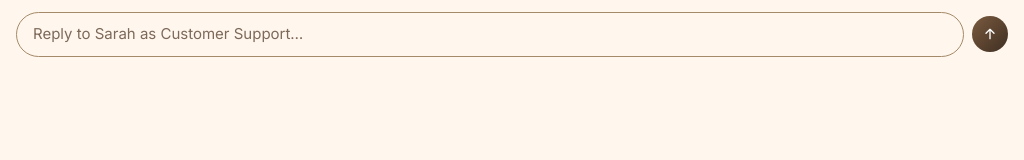
Test: ReplyField › sends via the send button and clears the field
Type "On it" into the field with placeholder "Reply to Sarah as Customer Support…".
click(490, 34); type("On it")  # box [16, 12, 964, 56]
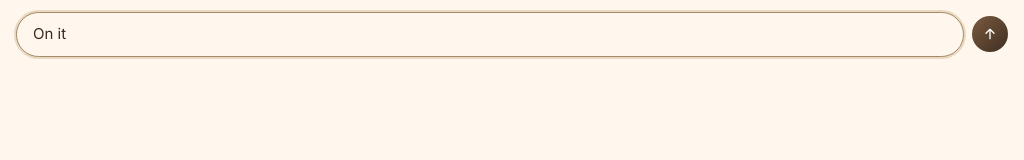
Click the button named "Send reply".
click(990, 34)  # box [972, 16, 1008, 52]
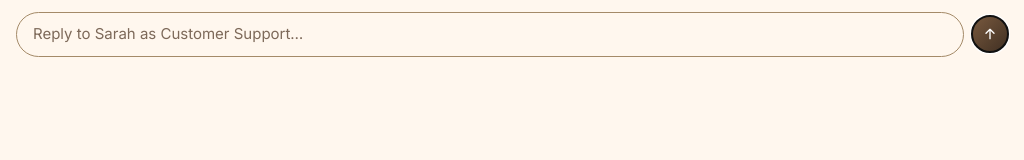
Now the field with placeholder "Reply to Sarah as Customer Support…" is empty, box [16, 12, 964, 56]
